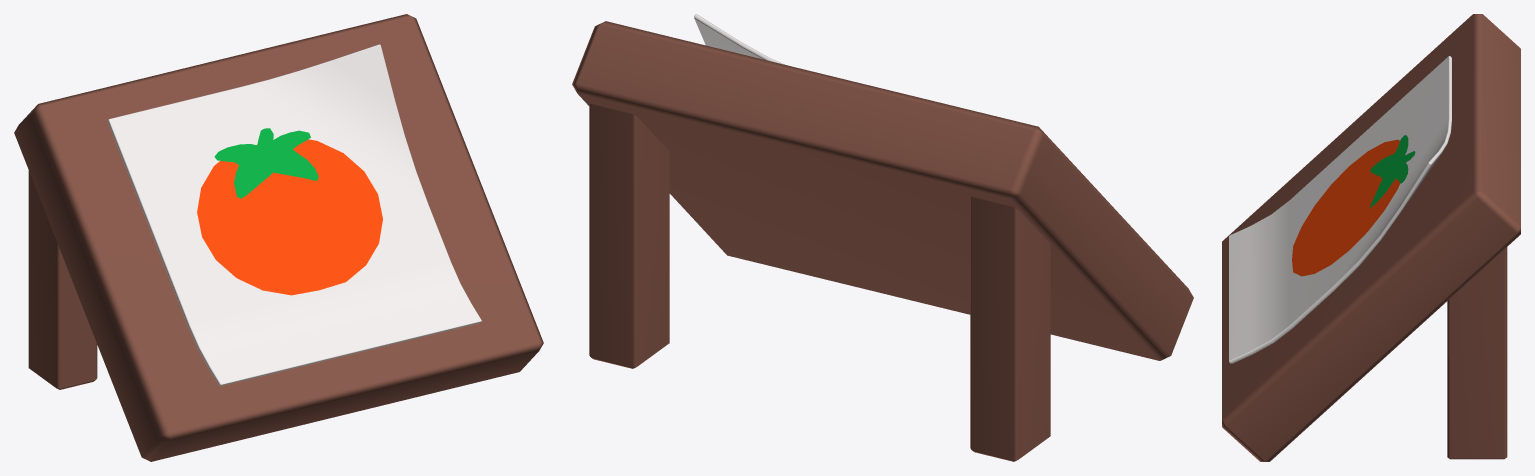
Rendered from Farm_3_Stand_1_Tomato_1.glb.
3 renders of one model, left to right at view 1: azimuth 30°, elevation 25°; view 2: azimuth 150°, elevation 25°; view 3: azimuth 270°, elevation 25°, orthographic. The views are drawn at different scales.
Parts seen in each view (by area): view 1: Farm_3_Stand_1_Tomato_1; view 2: Farm_3_Stand_1_Tomato_1; view 3: Farm_3_Stand_1_Tomato_1.
Part boxes in pixels (x1,y1,x2,y2): Farm_3_Stand_1_Tomato_1: (14, 14, 543, 461); Farm_3_Stand_1_Tomato_1: (572, 14, 1193, 461); Farm_3_Stand_1_Tomato_1: (1222, 14, 1520, 461).
Size of the model in its own units: 2.55 by 1.77 by 1.75.
Materials: 1 (1 with a texture image).
